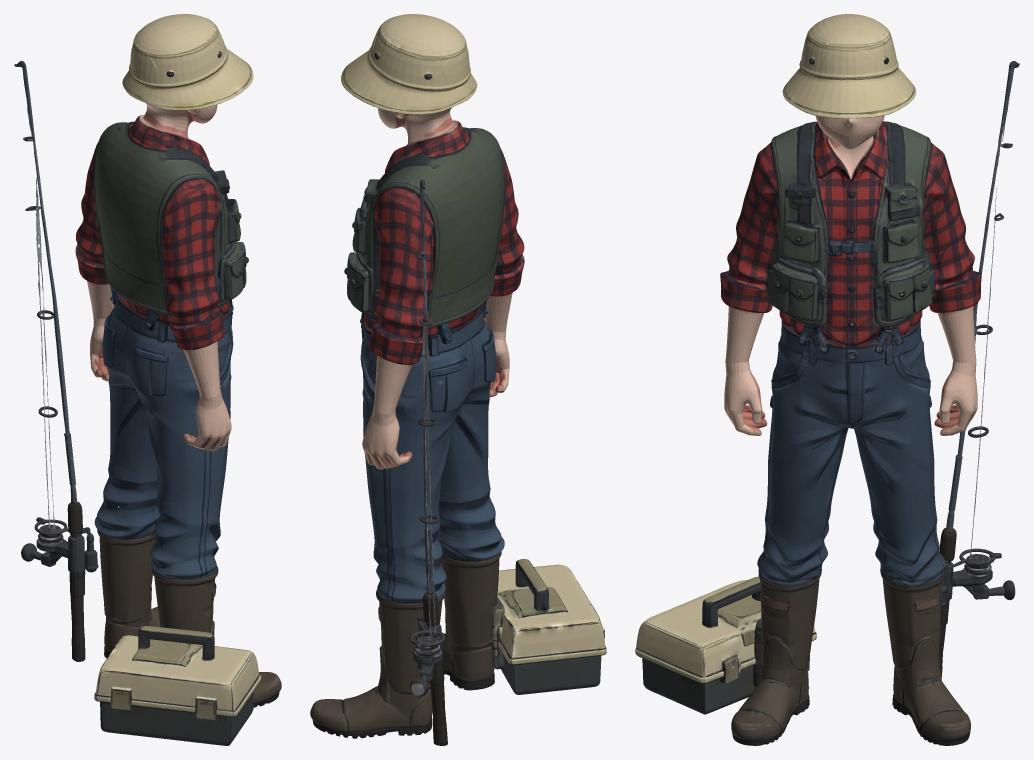
File: fishing+character+3d+model.glb
3 renders of one model, left to right at view 1: azimuth 30°, elevation 25°; view 2: azimuth 150°, elevation 25°; view 3: azimuth 270°, elevation 25°, orthographic. The views are drawn at different scales.
Visible parts, largest first — view 1: tripo_node_fb916d1b-eea4-4ab1-9c3b-f8dd8162813f; view 2: tripo_node_fb916d1b-eea4-4ab1-9c3b-f8dd8162813f; view 3: tripo_node_fb916d1b-eea4-4ab1-9c3b-f8dd8162813f.
Boxes of the visible parts, x1,y1,x2,y2 form: tripo_node_fb916d1b-eea4-4ab1-9c3b-f8dd8162813f: (14, 14, 281, 745); tripo_node_fb916d1b-eea4-4ab1-9c3b-f8dd8162813f: (310, 14, 606, 745); tripo_node_fb916d1b-eea4-4ab1-9c3b-f8dd8162813f: (635, 14, 1019, 745).
Bounding box in the file's own units: 0.3196 × 0.9997 × 0.4981.
1 material, 1 textured.
